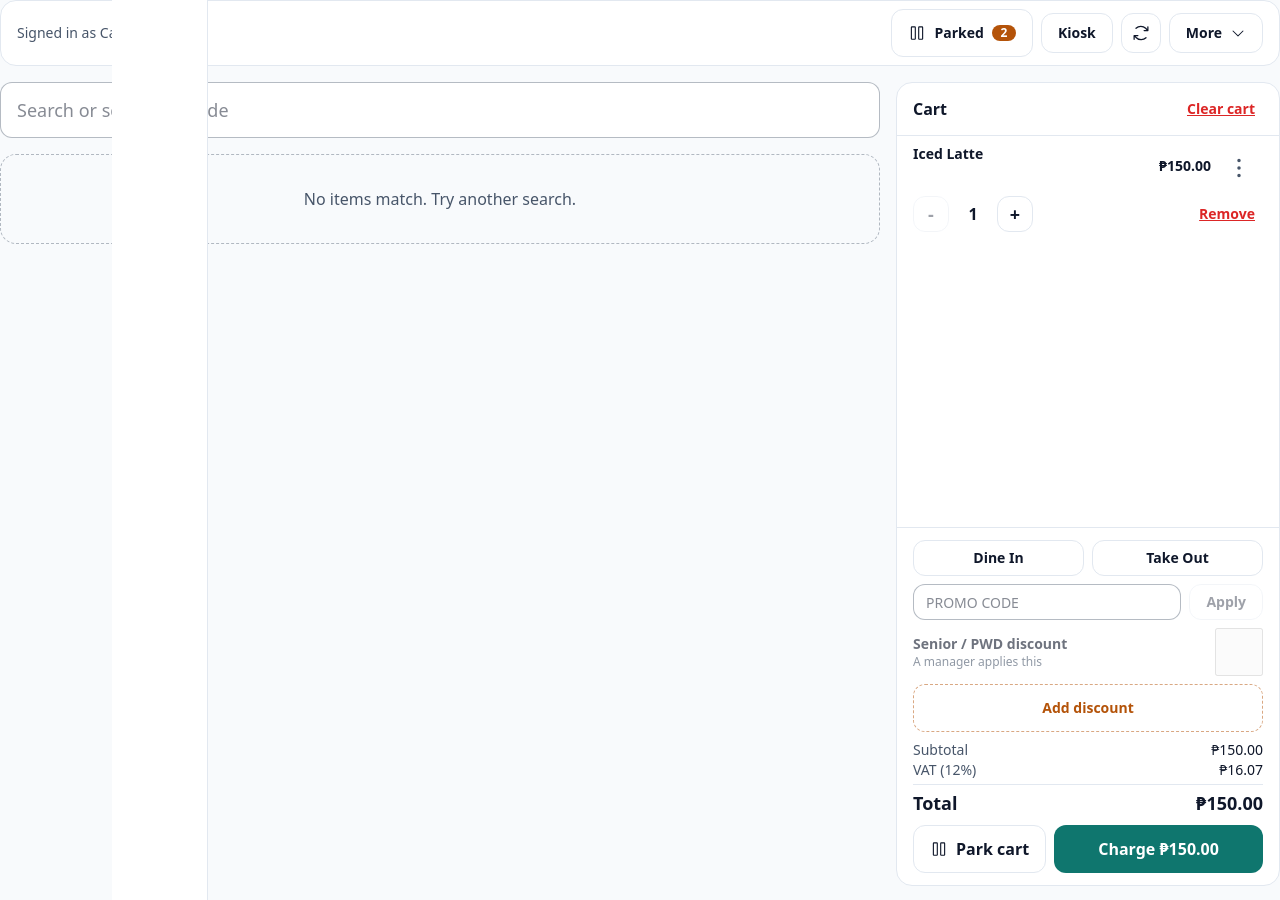
Test: Park cart › asks for an optional label, parks the cart, and the register starts a fresh one (as a cashier)
Expected: the text with test id "cart-total" is shown, [1196,789,1263,817]
Click the button "Park cart" at (980, 849), box [913,825,1046,873]
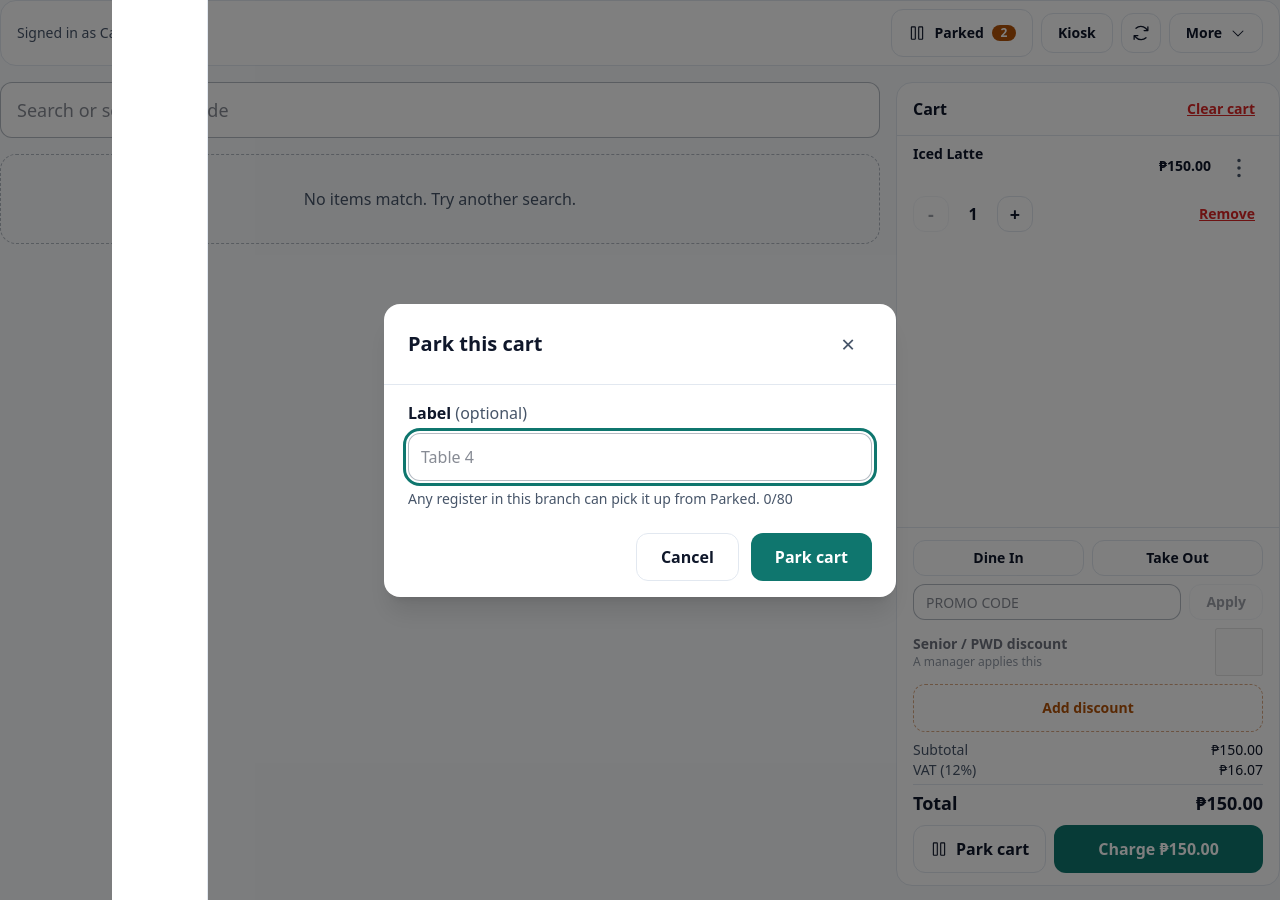
Type "  Table 4 " into the field labelled "Label (optional)" at (640, 456), box [408,432,872,480]
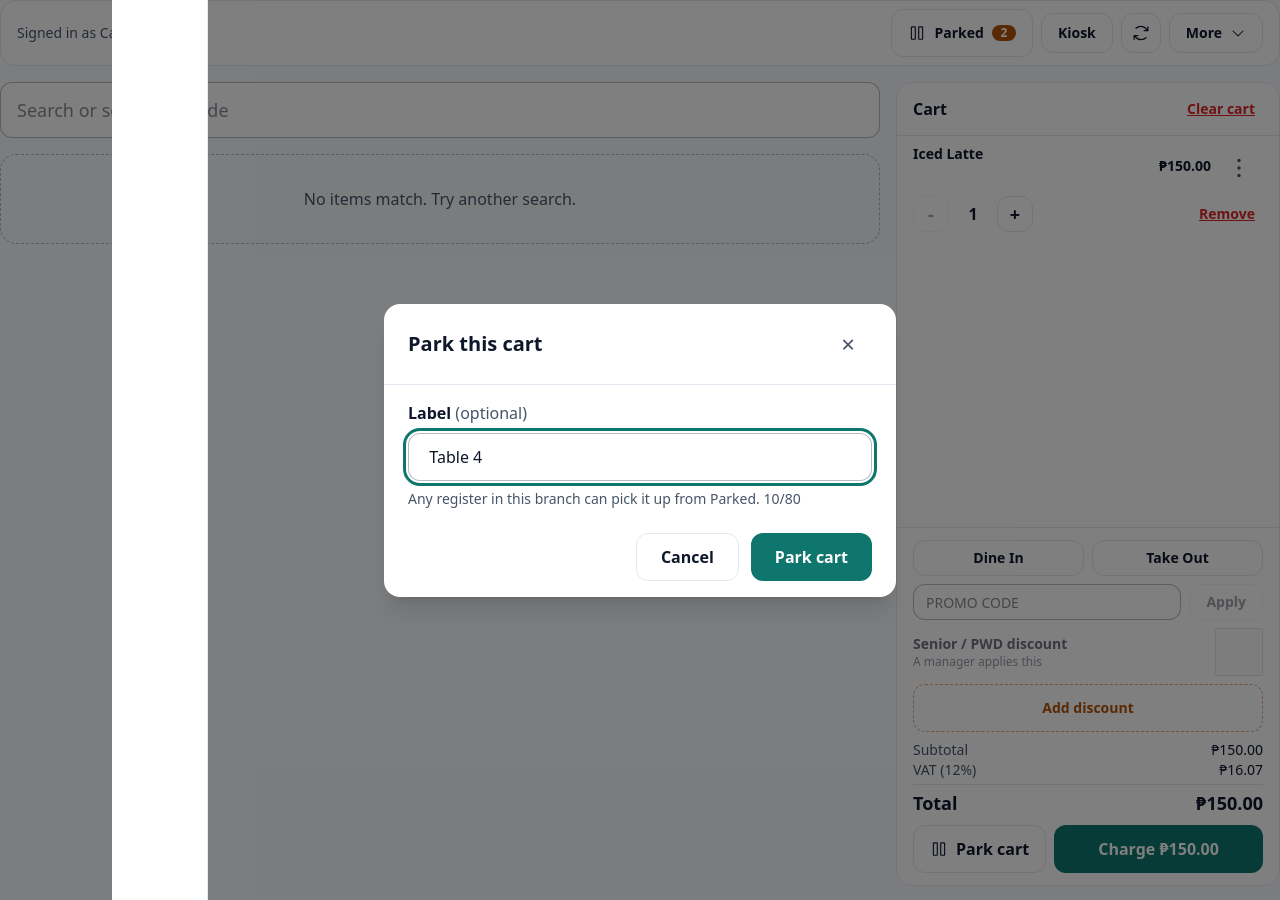
Click the button "Park cart" at (811, 556), box [751,532,872,580]
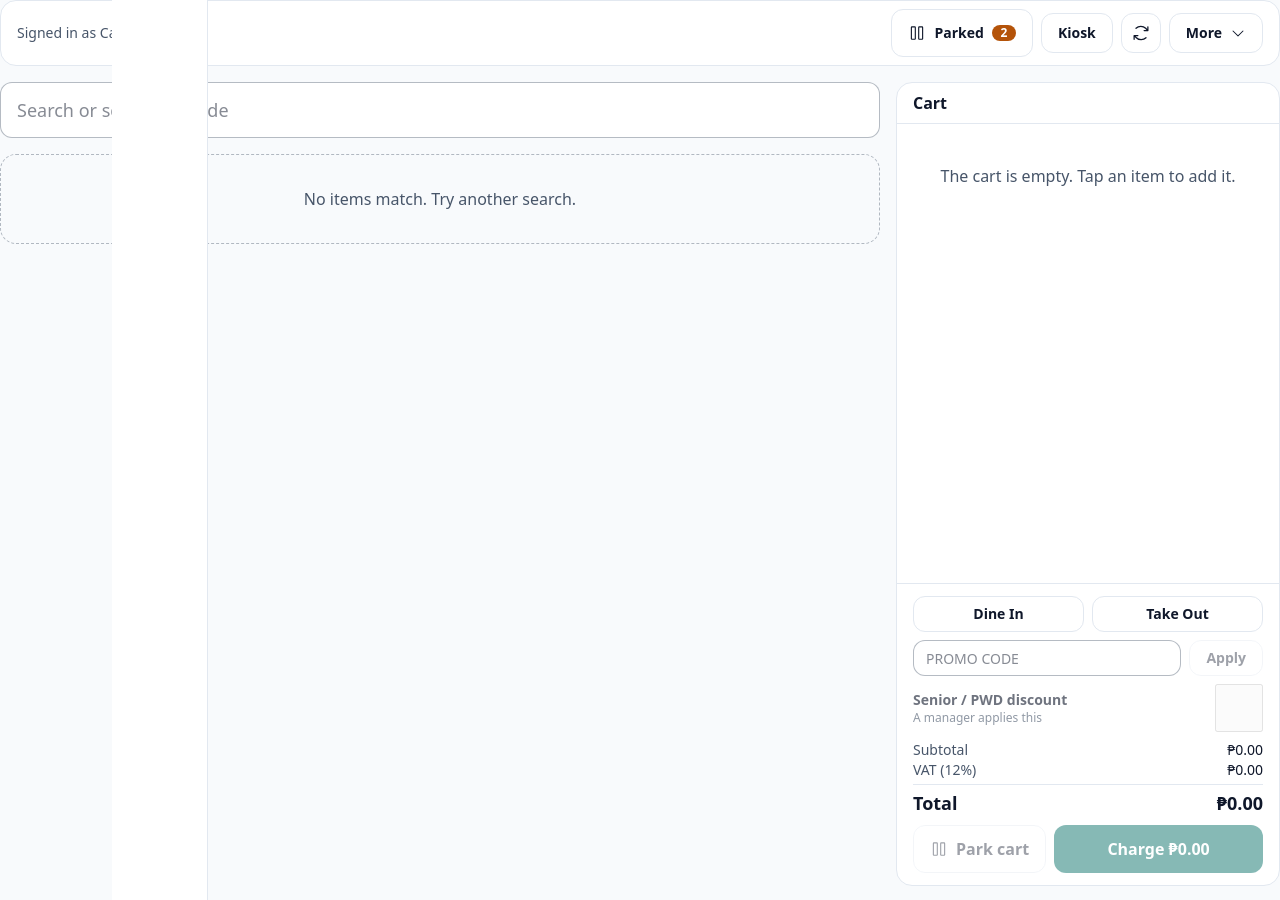
Now the text "The cart is empty. Tap an item to add it." is shown, box [940,165,1236,187]
Now the heading "Park this cart" is gone
